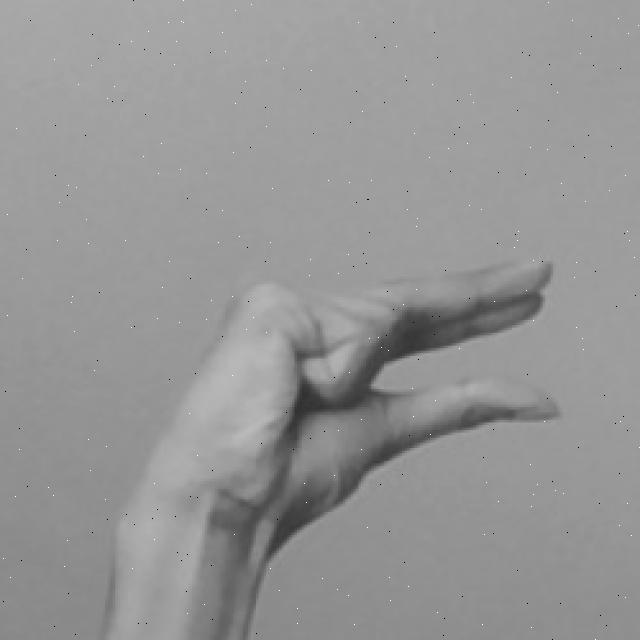G: (94, 251, 560, 640)
